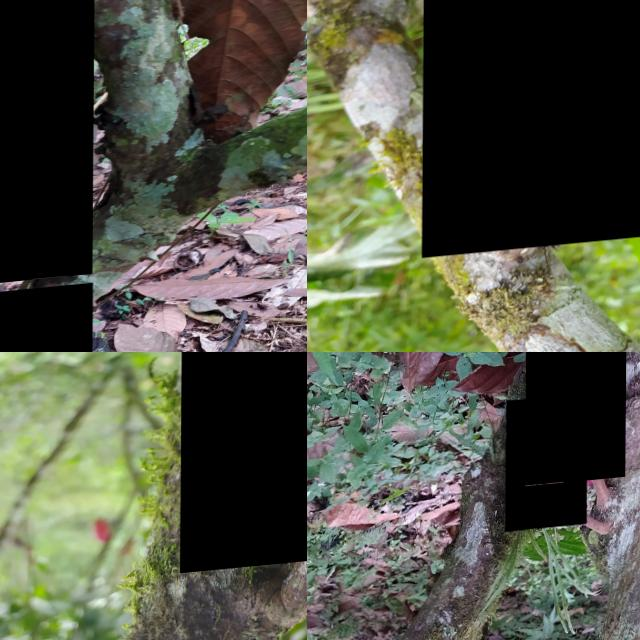Fitoftora: (423, 0, 640, 262), (180, 352, 307, 577), (0, 0, 93, 291)
Monilia: (525, 352, 627, 491), (506, 399, 588, 537)
